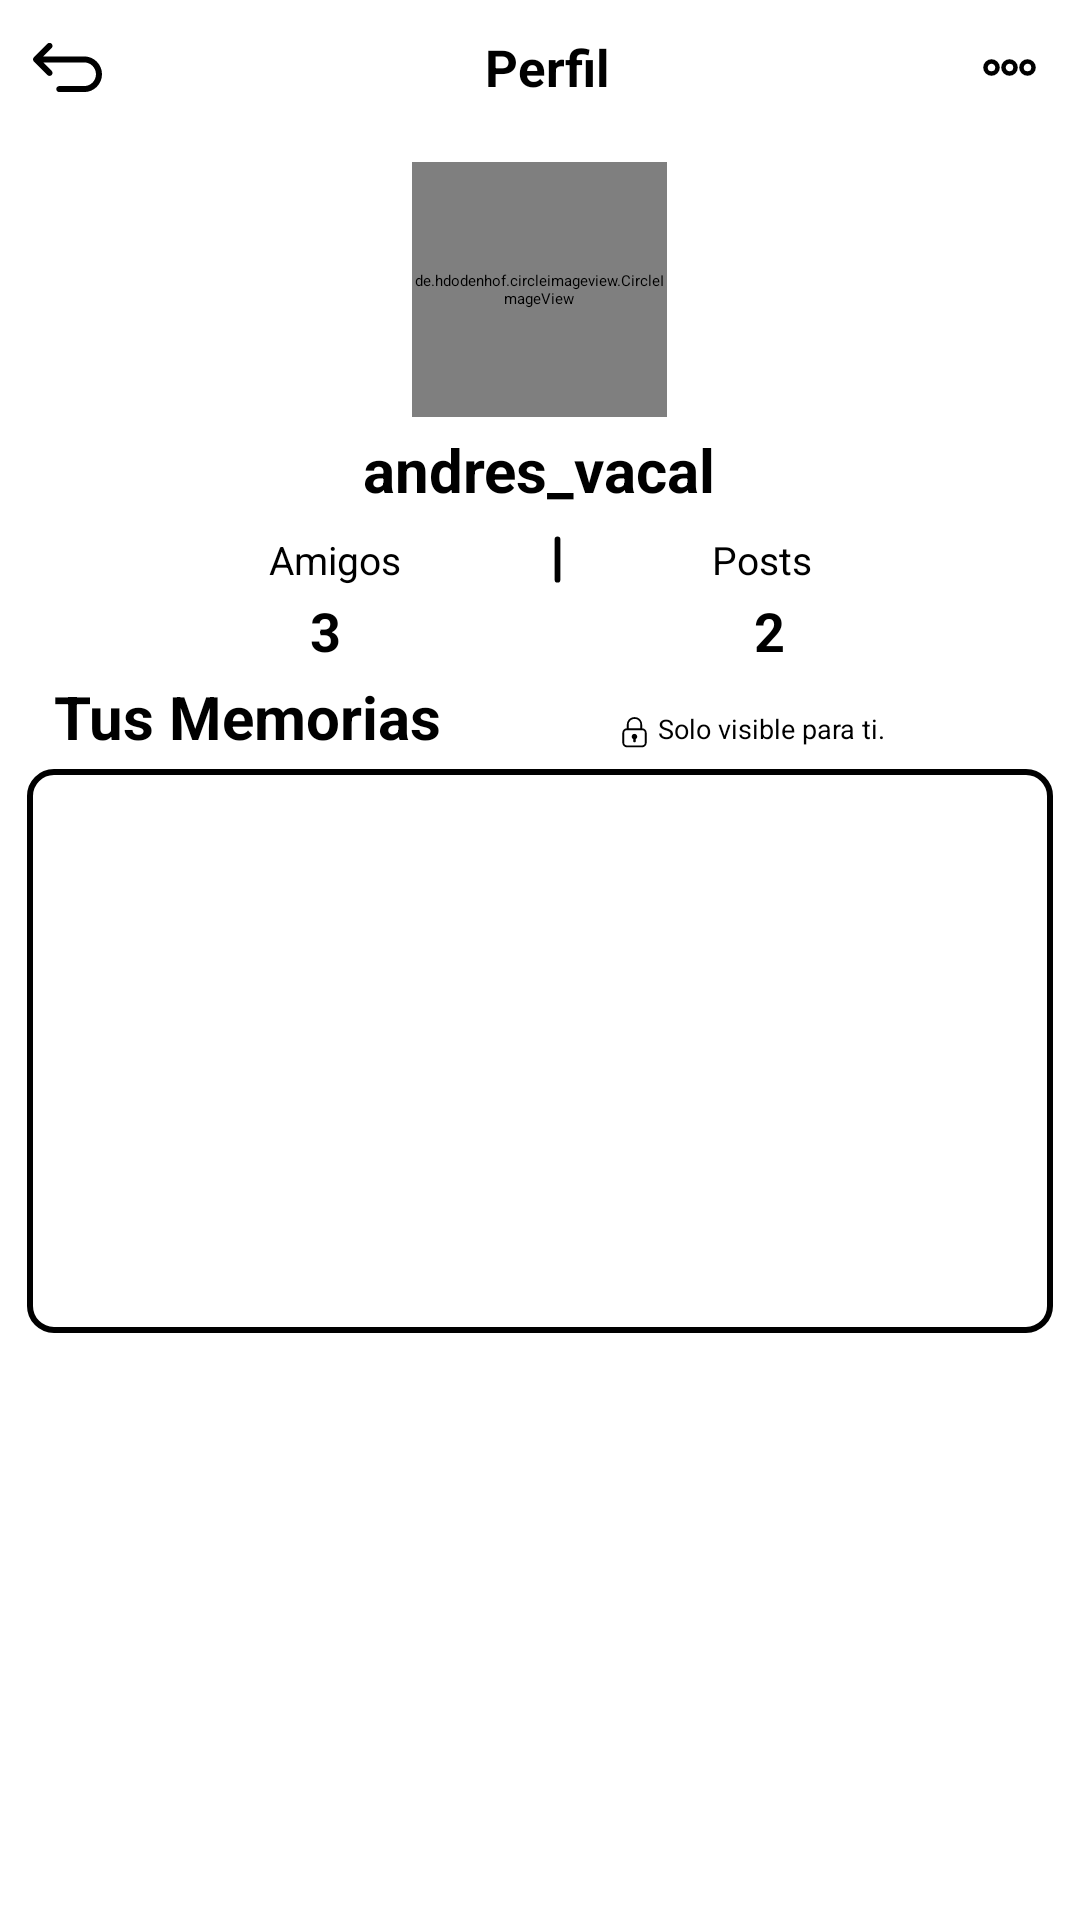

Screen size 1080 × 1920. Icon name, then its box in pixels as (x1, y1, x2, y2):
candadovector: (622, 717, 647, 748)
moresignvector: (983, 59, 1036, 76)
returnsign: (33, 43, 102, 92)
